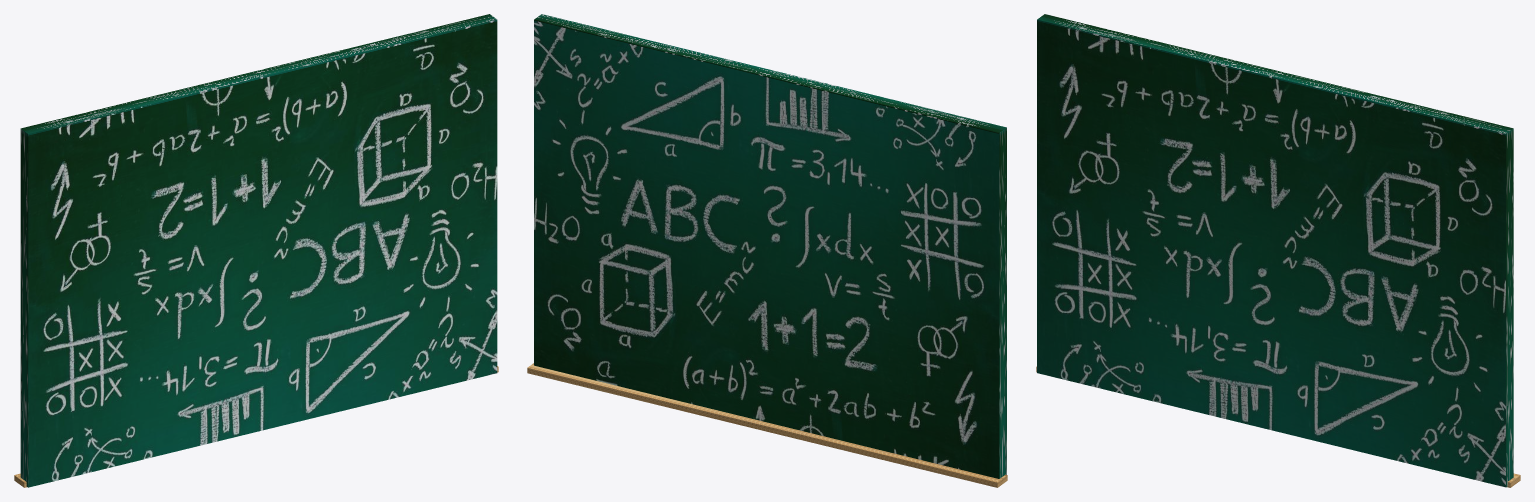
File: pizarron.obj
The picture shows the model from 3 angles, left to right: view 1: azimuth 30°, elevation 25°; view 2: azimuth 150°, elevation 25°; view 3: azimuth 330°, elevation 25°; orthographic projection.
Parts seen in each view (by area): view 1: polySurface249; view 2: polySurface249; view 3: polySurface249.
Boxes of the visible parts, x1,y1,x2,y2 form: polySurface249: [14, 14, 498, 487]; polySurface249: [527, 14, 1007, 487]; polySurface249: [1036, 14, 1520, 487].
Size of the model in its own units: 0.3189 by 0.2276 by 0.0137.
Materials: 2 (2 with a texture image).
